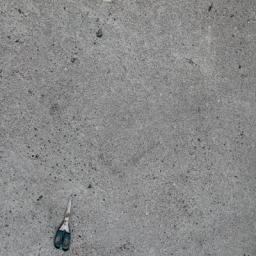FOD: (54, 196, 77, 253)
